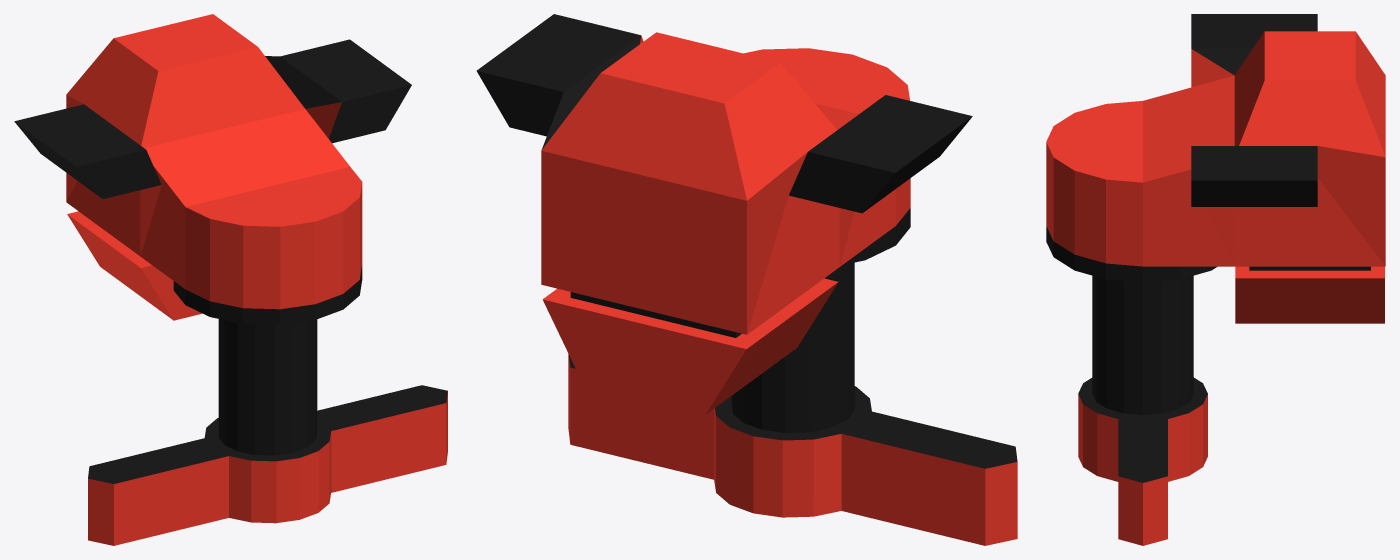
Rendered from drill_body.fbx.
The picture shows the model from 3 angles, left to right: view 1: azimuth 30°, elevation 25°; view 2: azimuth 150°, elevation 25°; view 3: azimuth 270°, elevation 25°; orthographic projection. The views are drawn at different scales.
Parts seen in each view (by area): view 1: Cylinder; view 2: Cylinder; view 3: Cylinder.
Part boxes in pixels (x1,y1,x2,y2): Cylinder: [14, 14, 447, 545]; Cylinder: [476, 14, 1017, 545]; Cylinder: [1046, 14, 1385, 545].
Size of the model in its own units: 106 by 111 by 85.03.
